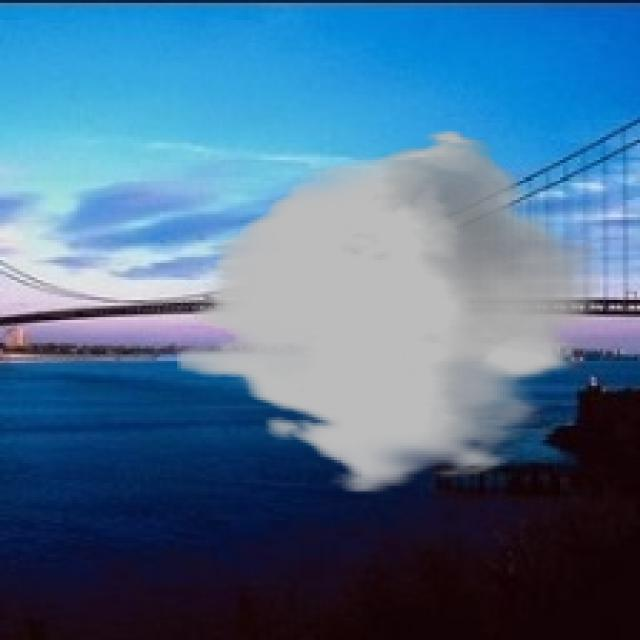Smoke: (177, 128, 600, 494)
